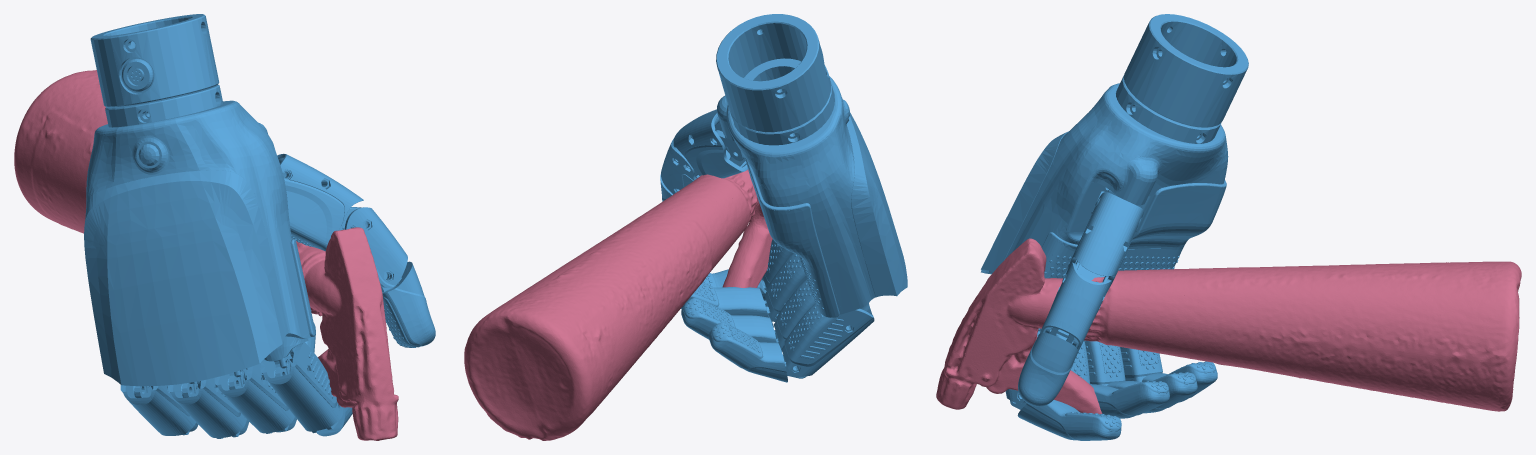
3 renders of one model, left to right at view 1: azimuth 30°, elevation 25°; view 2: azimuth 150°, elevation 25°; view 3: azimuth 270°, elevation 25°, orthographic. The views are drawn at different scales.
Parts seen in each view (by area): view 1: 1; view 2: 1; view 3: 1.
Boxes of the visible parts, x1,y1,x2,y2 form: 1: (14, 14, 435, 440); 1: (464, 14, 907, 440); 1: (936, 14, 1521, 440).
Bounding box in the file's own units: 0.1429 × 0.192 × 0.2685.
